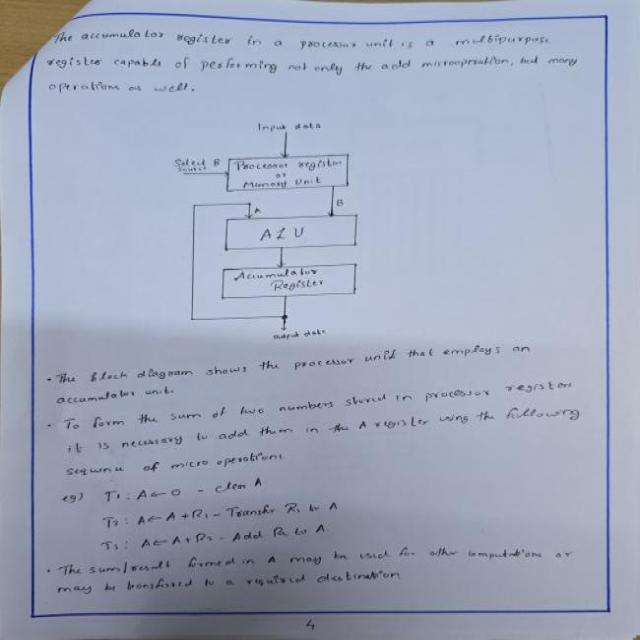Figure Detection - v3 Dataset Version2: (158, 110, 403, 348)
